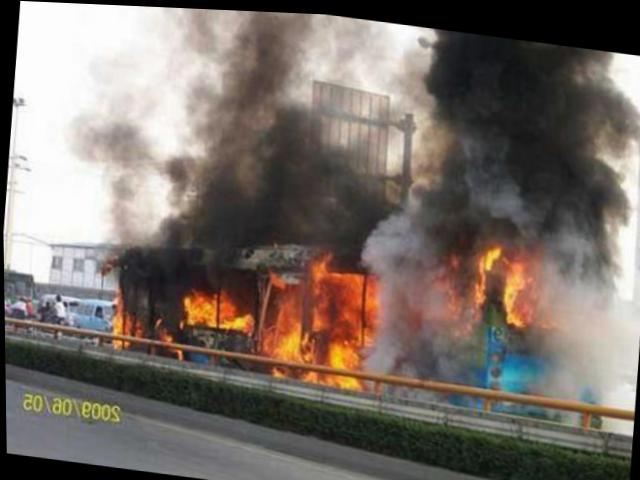fire: (307, 262, 367, 340), (501, 252, 538, 322), (269, 316, 317, 359), (181, 284, 221, 325), (361, 269, 382, 342), (220, 287, 256, 328), (306, 365, 365, 385), (274, 282, 302, 319), (328, 338, 363, 366), (473, 257, 490, 304), (483, 238, 502, 264), (314, 243, 330, 267), (114, 297, 126, 328)
